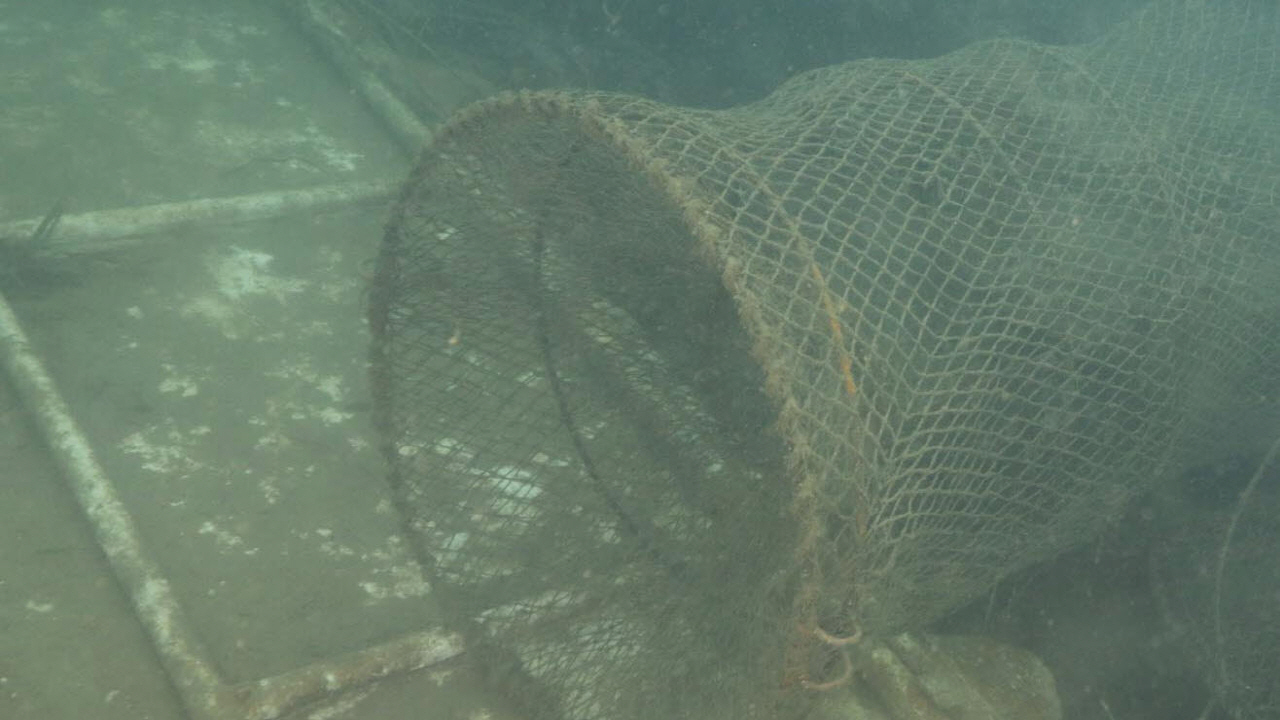spring fish trap: (364, 0, 1280, 720)
